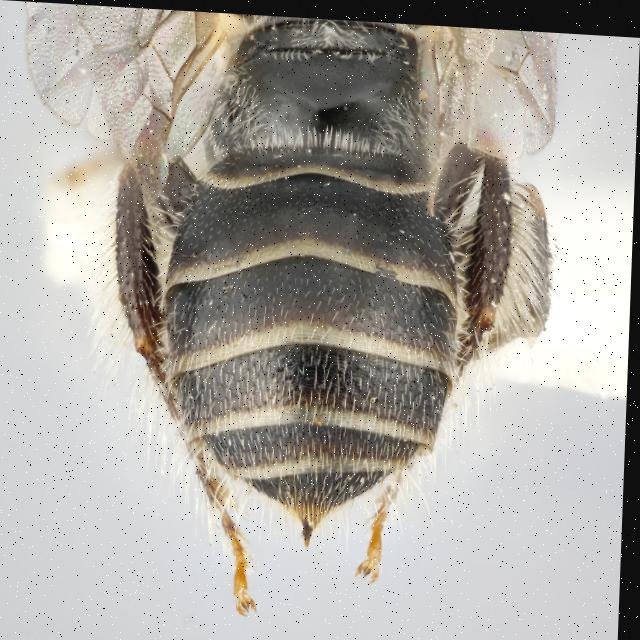Braunsapis: (101, 5, 519, 622)
